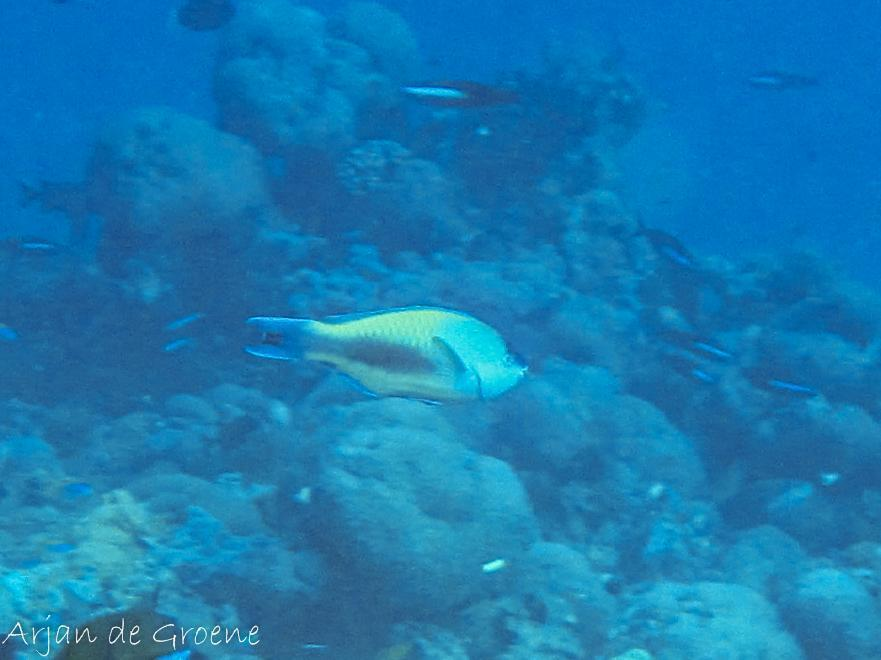Fish: (229, 281, 580, 448)
